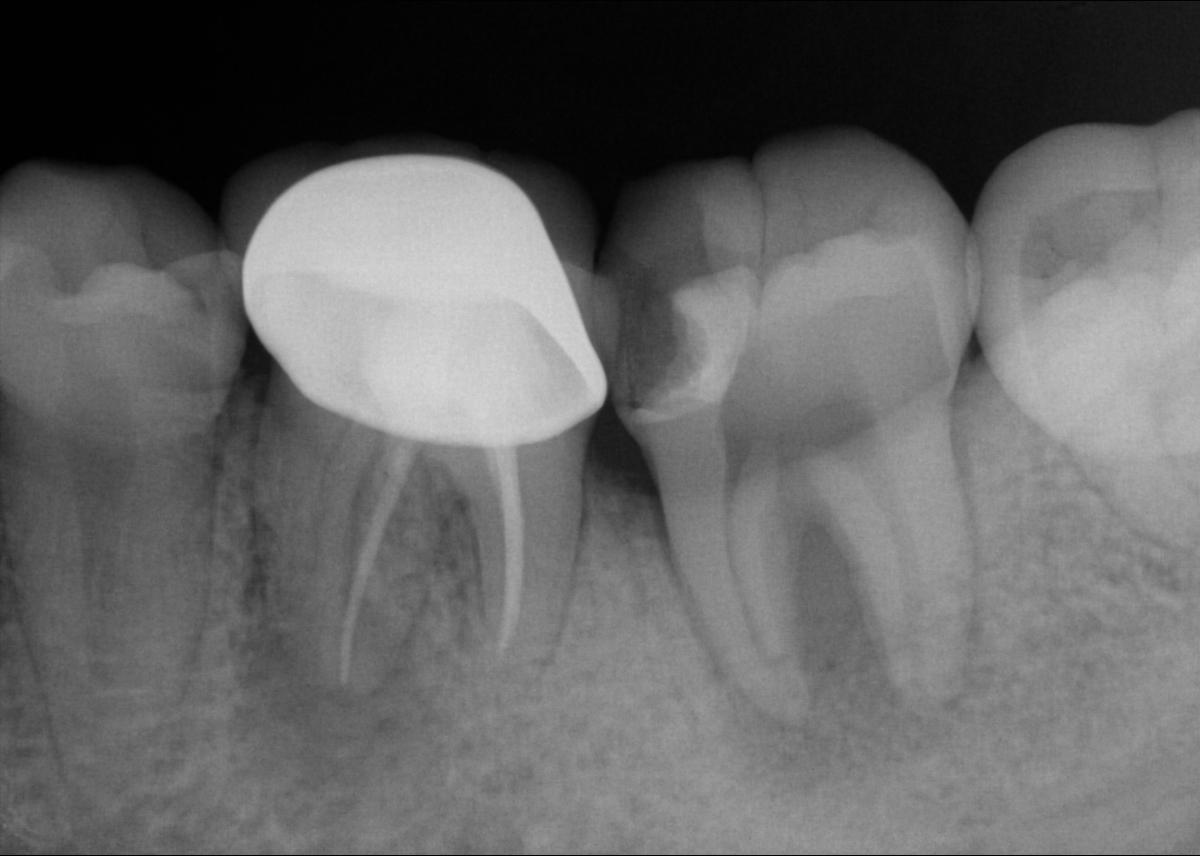Dental Caries: (727, 521, 993, 799)
Furcation Involvement: (229, 512, 524, 856)
